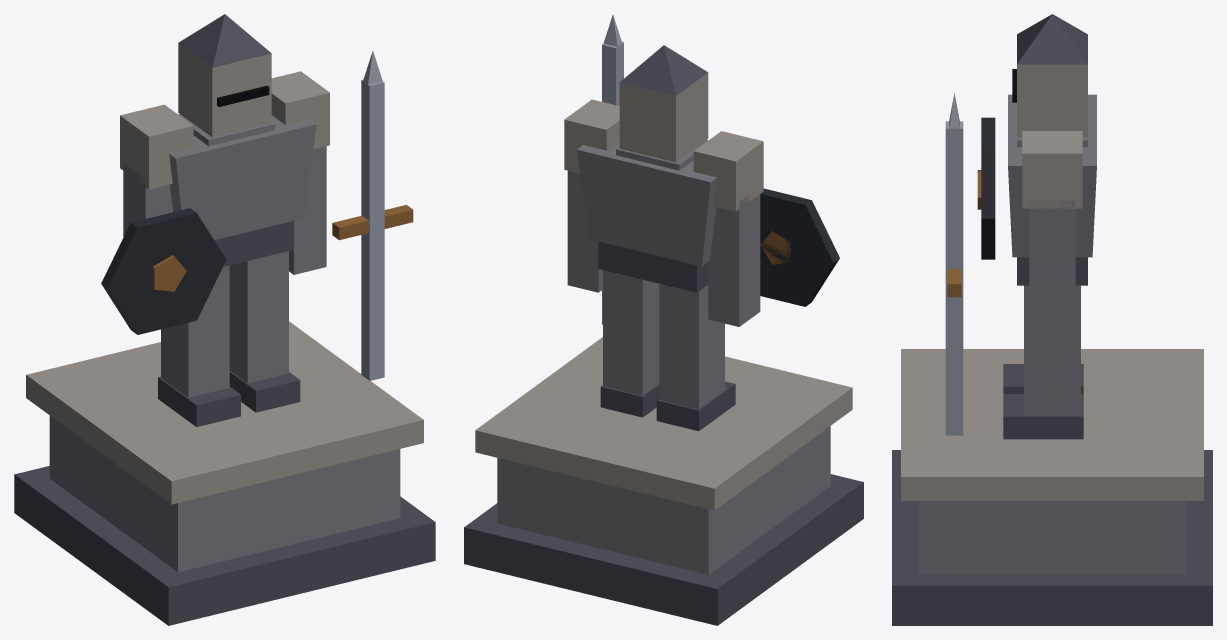
The model's file is statue_knight.fbx.
The picture shows the model from 3 angles, left to right: view 1: azimuth 30°, elevation 25°; view 2: azimuth 150°, elevation 25°; view 3: azimuth 270°, elevation 25°; orthographic projection. The views are drawn at different scales.
Parts seen in each view (by area): view 1: statue_knight; view 2: statue_knight; view 3: statue_knight.
Boxes of the visible parts, <box> form: statue_knight: <box>14,14,435,625</box>; statue_knight: <box>464,14,863,625</box>; statue_knight: <box>892,14,1212,625</box>.
Size of the model in its own units: 1.95 by 3.37 by 1.8.
